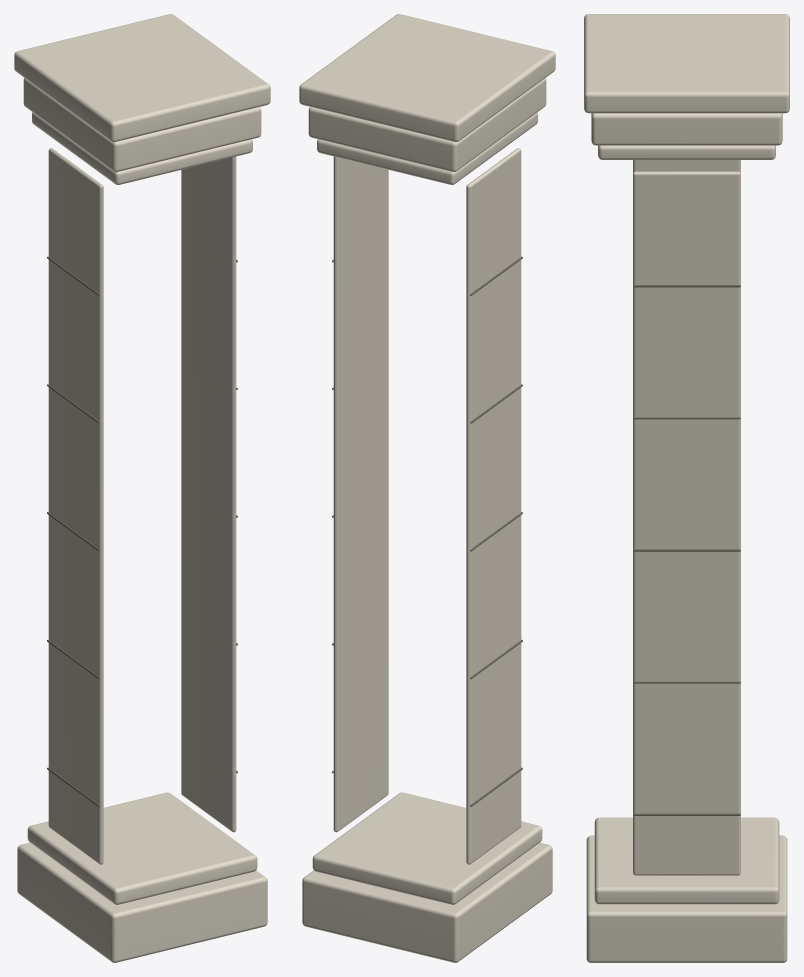
File: Architecture001.fbx
3 views of the same model, side by side, from view 1: azimuth 30°, elevation 25°; view 2: azimuth 150°, elevation 25°; view 3: azimuth 270°, elevation 25° (orthographic). The views are drawn at different scales.
Visible parts, largest first — view 1: Architecture001; view 2: Architecture001; view 3: Architecture001.
Part boxes in pixels (<box>): Architecture001: <box>14,14,270,962</box>; Architecture001: <box>299,14,555,962</box>; Architecture001: <box>584,14,789,962</box>.
Size of the model in its own units: 81.25 by 409 by 87.5.
